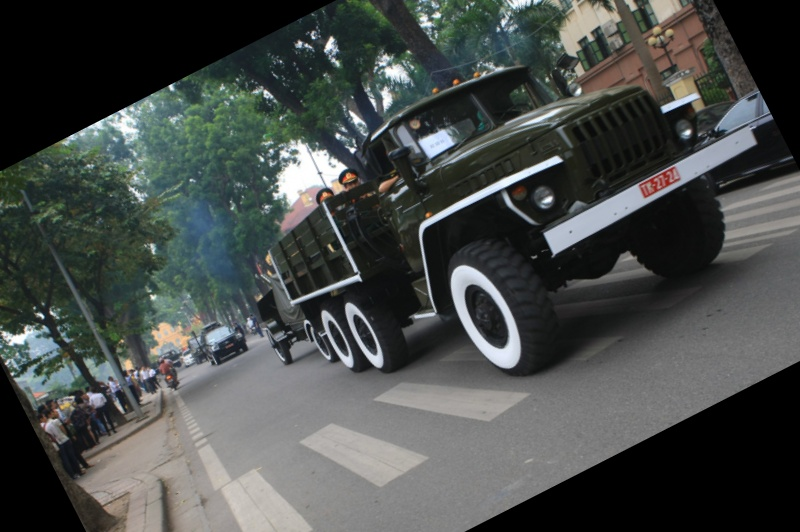plate: (632, 164, 682, 210)
